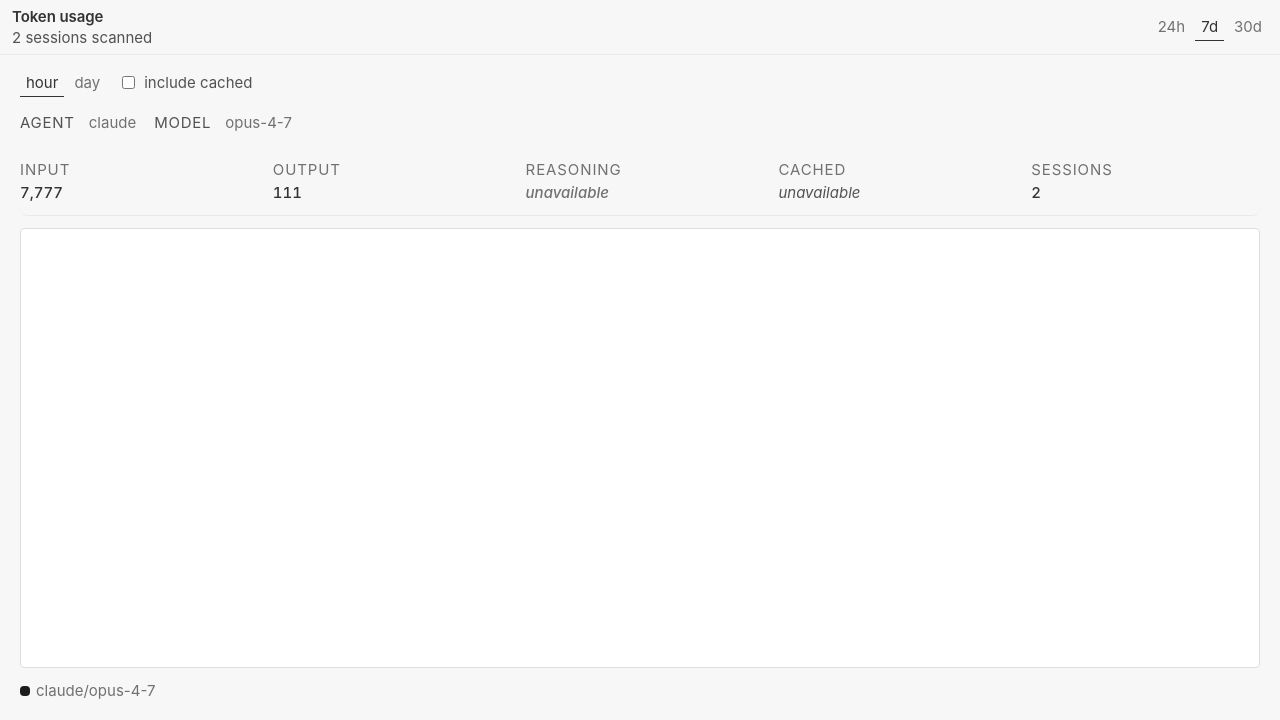
tokens page: failed request after a preset switch does NOT keep old data under new controls
The width and height of the screenshot is (1280, 720).
Check: the text "7,777" is shown, box [20,183,63,203]
Click the button "30d" at (1248, 27), box [1228,13,1268,41]
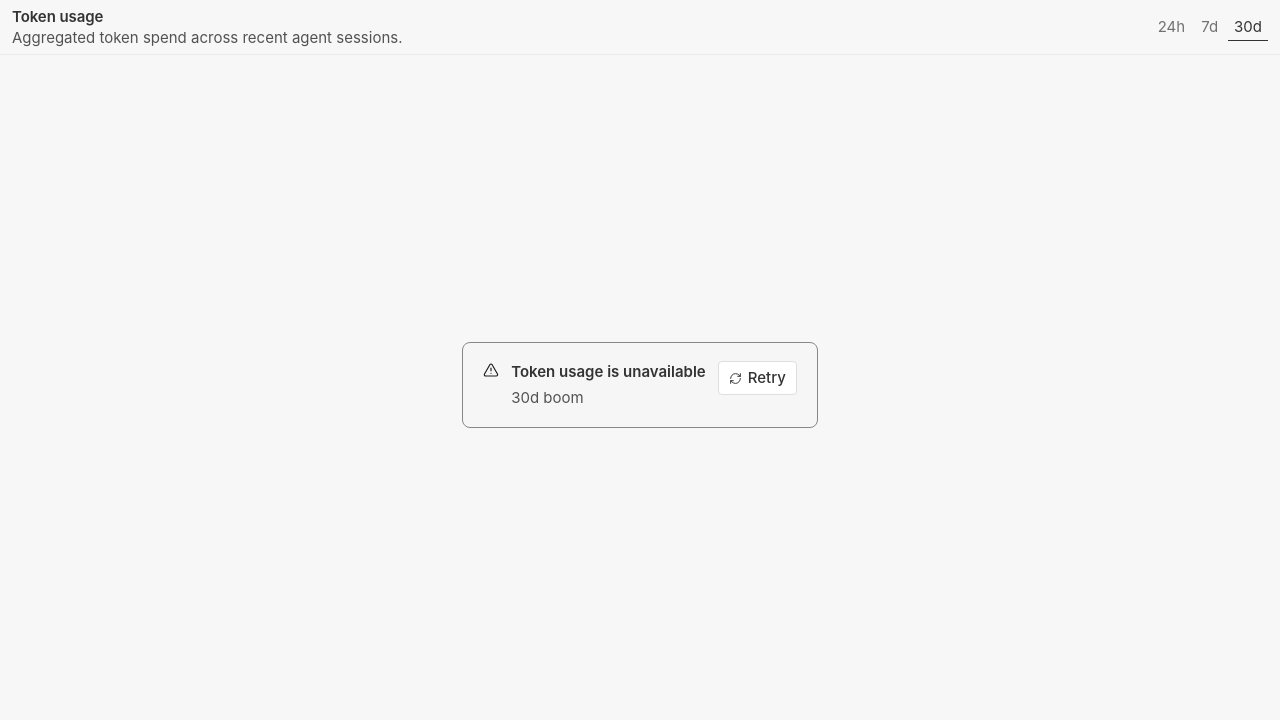
Check: the message shows "Token usage is unavailable", box [511,362,706,381]
Check: the text "7,777" is gone
